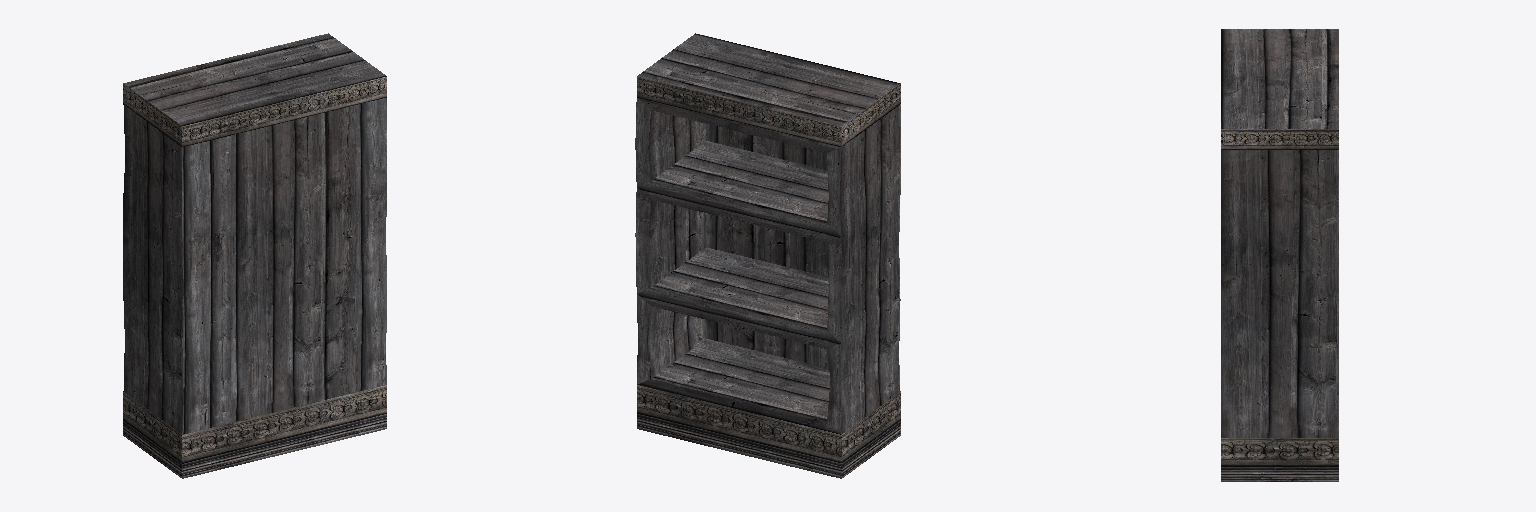
3 views of the same model, side by side, from view 1: azimuth 30°, elevation 25°; view 2: azimuth 150°, elevation 25°; view 3: azimuth 270°, elevation 25° (orthographic).
Parts seen in each view (by area): view 1: Default_Layer; view 2: Default_Layer; view 3: Default_Layer.
Part boxes in pixels (x1,y1,x2,y2): Default_Layer: (123,33,386,478); Default_Layer: (635,33,900,478); Default_Layer: (1221,29,1338,481).
Size of the model in its own units: 3.08 by 5.03 by 1.52.
1 materials, 1 textured.